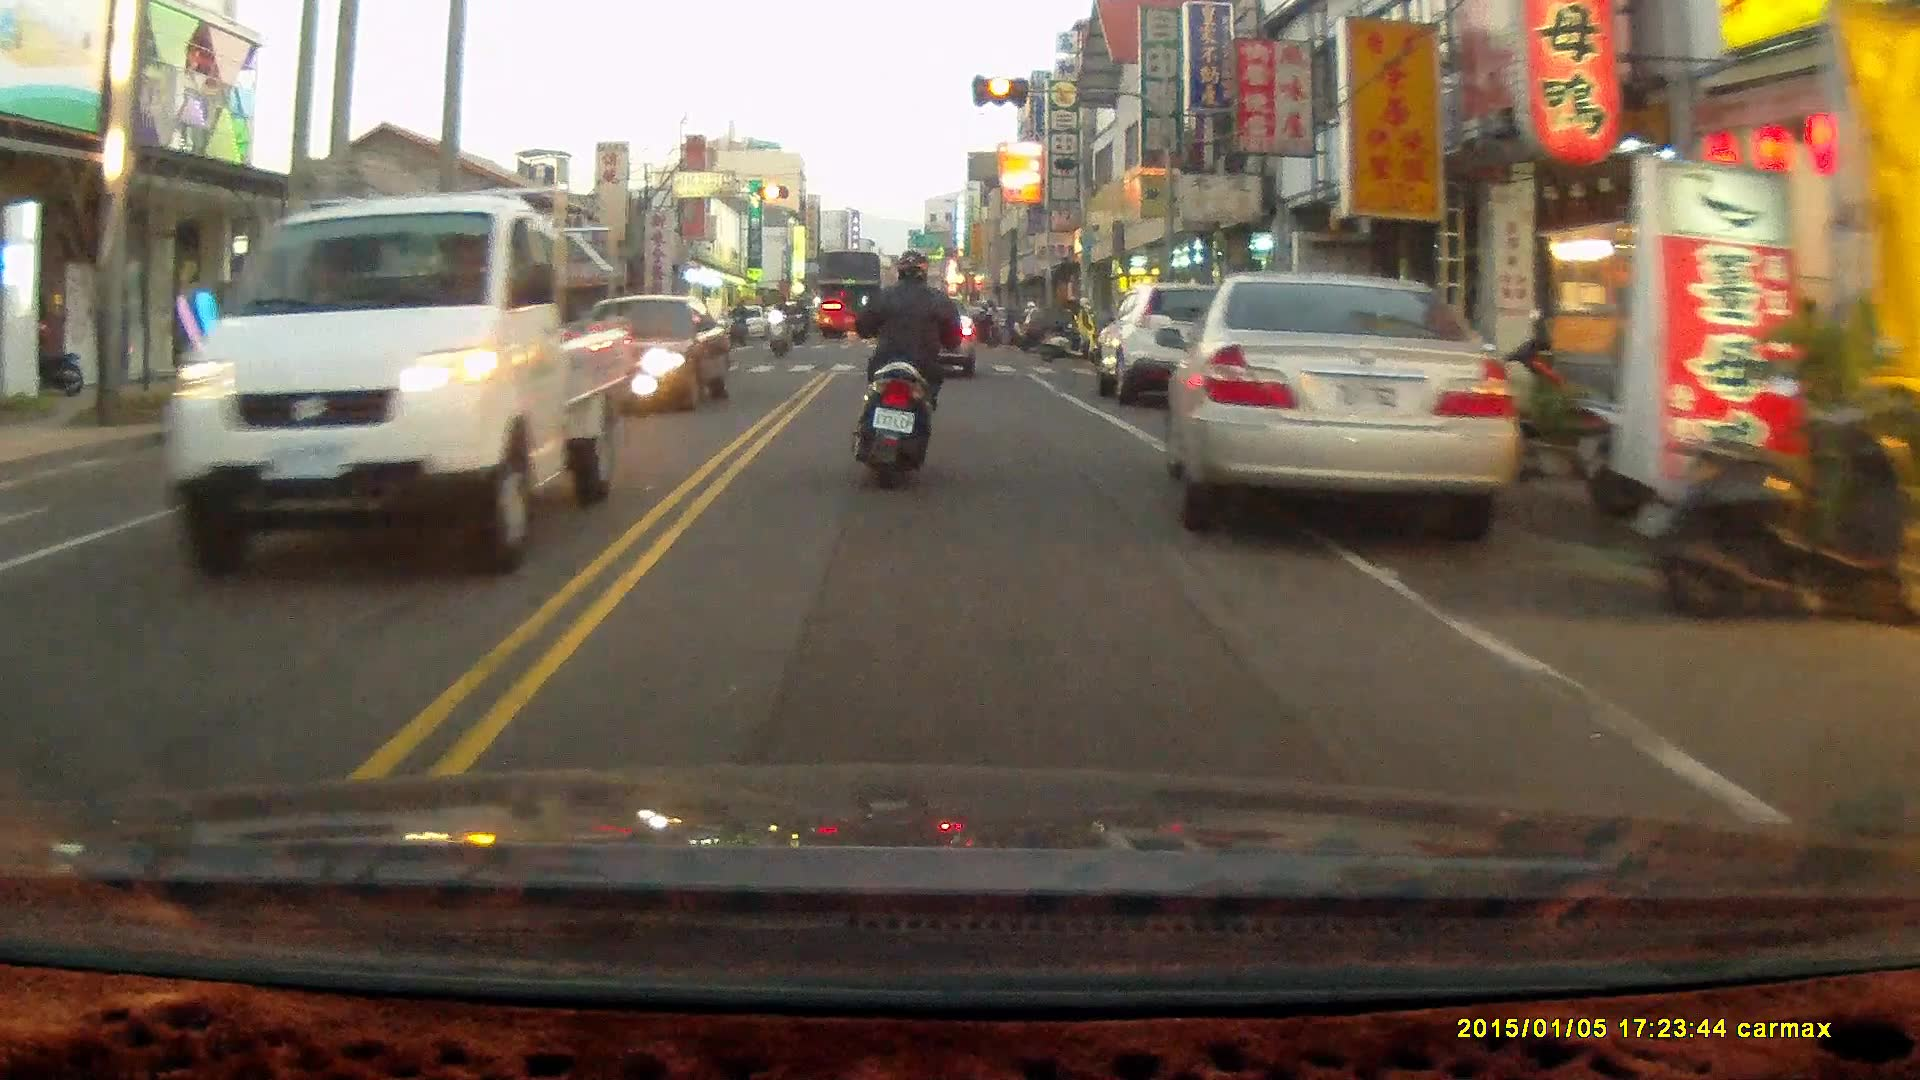pedestrian: (1074, 294, 1097, 367)
rider: (852, 249, 974, 491), (765, 292, 792, 358), (728, 296, 752, 349), (790, 293, 810, 346)
vehicle: (148, 191, 632, 580), (1163, 272, 1502, 553), (1095, 282, 1261, 407), (582, 294, 736, 415), (815, 249, 890, 336)
